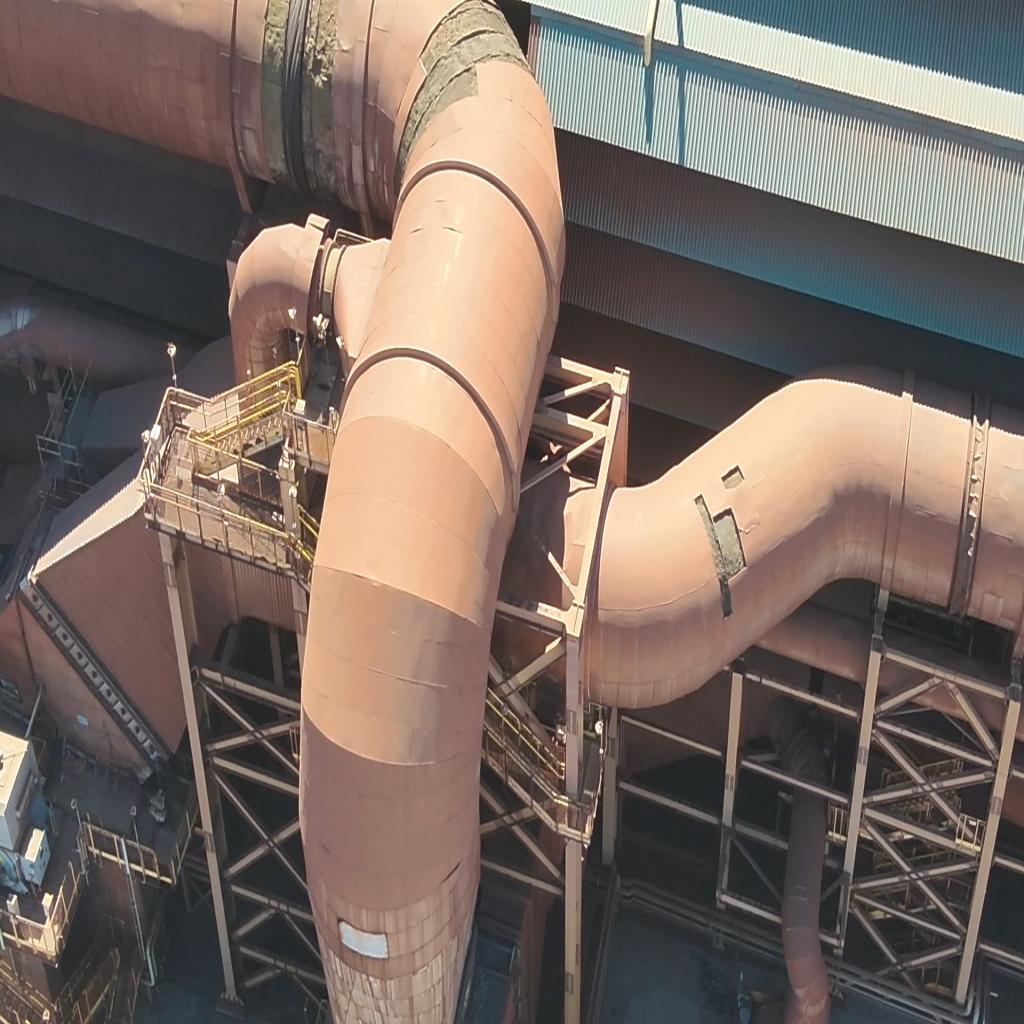Failures: (695, 492, 749, 623), (721, 466, 745, 489)
